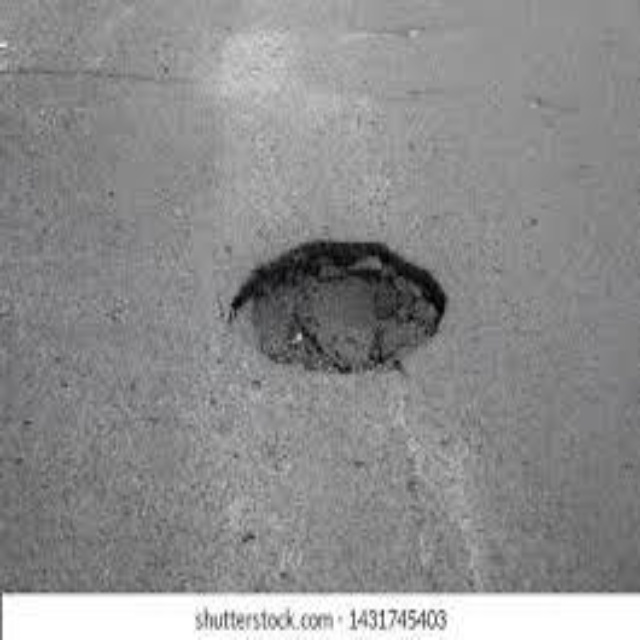pothole: (229, 239, 449, 377)
